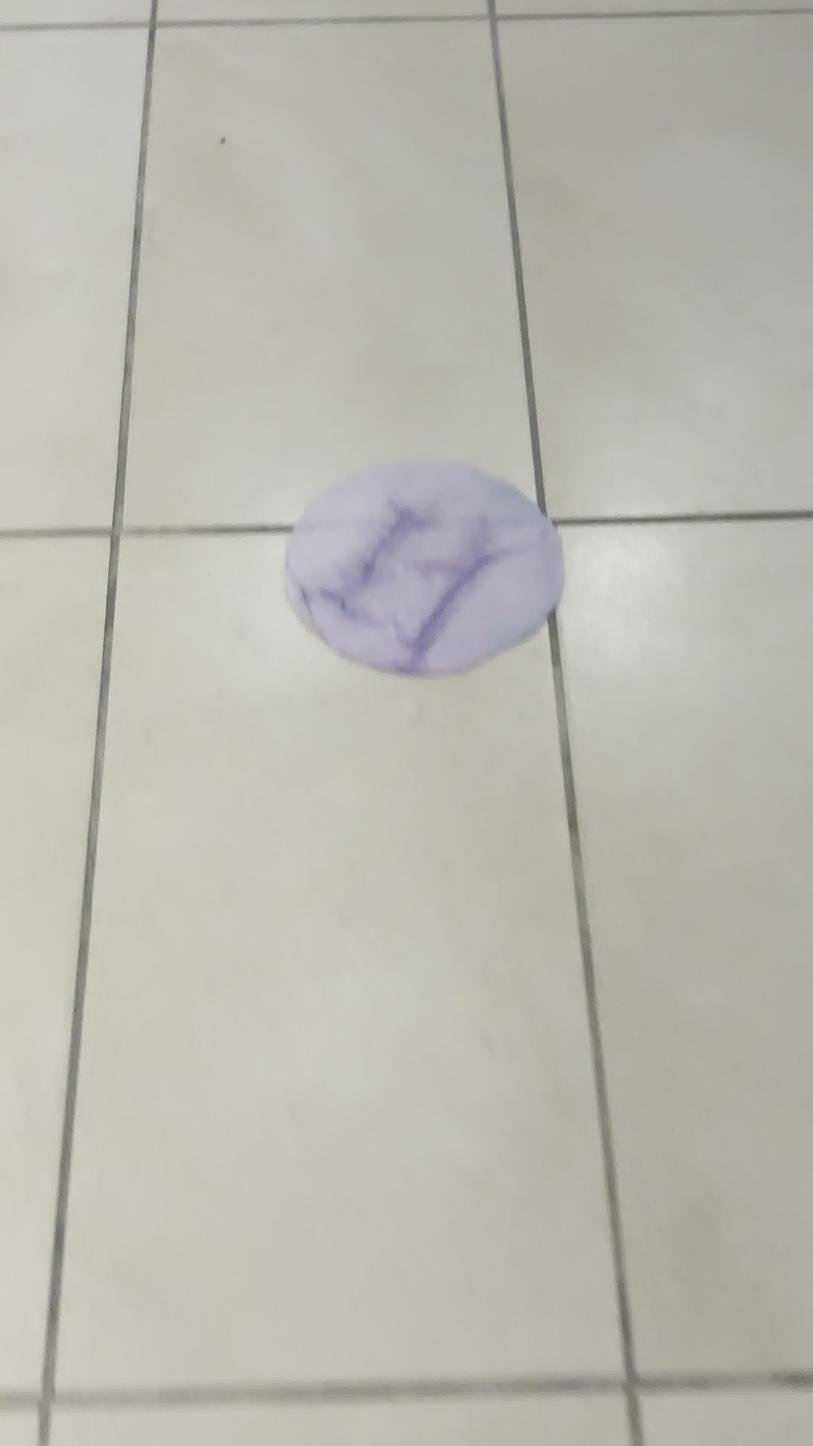Target: (285, 454, 567, 683)
